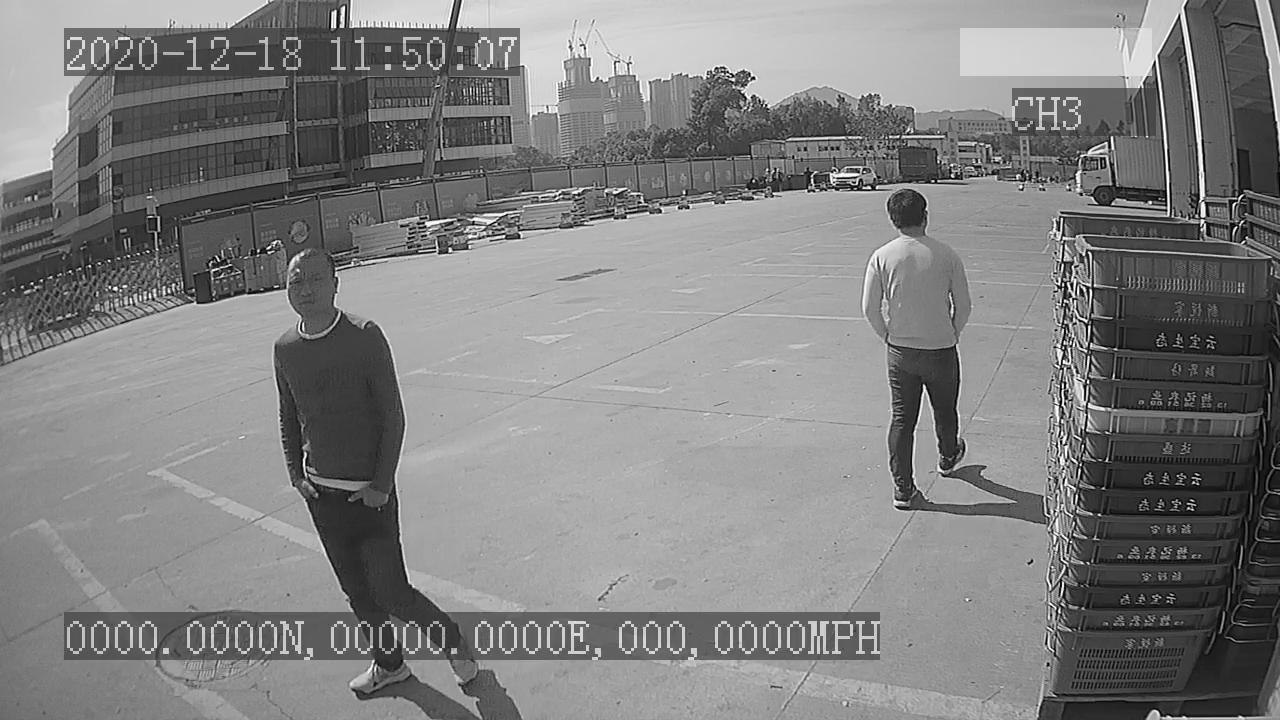person: (856, 185, 970, 513)
